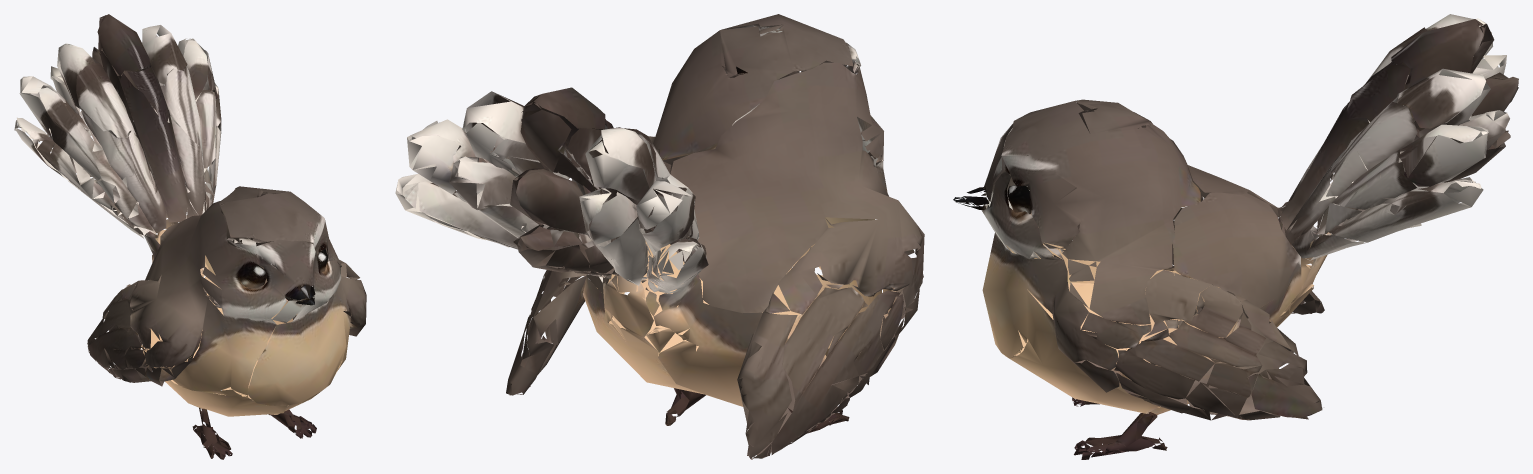
File: fantail.glb
3 renders of one model, left to right at view 1: azimuth 30°, elevation 25°; view 2: azimuth 150°, elevation 25°; view 3: azimuth 270°, elevation 25°, orthographic. The views are drawn at different scales.
Visible parts, largest first — view 1: model; view 2: model; view 3: model.
Boxes of the visible parts, x1,y1,x2,y2 form: model: [14, 14, 366, 459]; model: [395, 14, 924, 459]; model: [953, 14, 1518, 459].
Size of the model in its own units: 1.05 by 1.51 by 1.89.
1 material, 1 textured.
